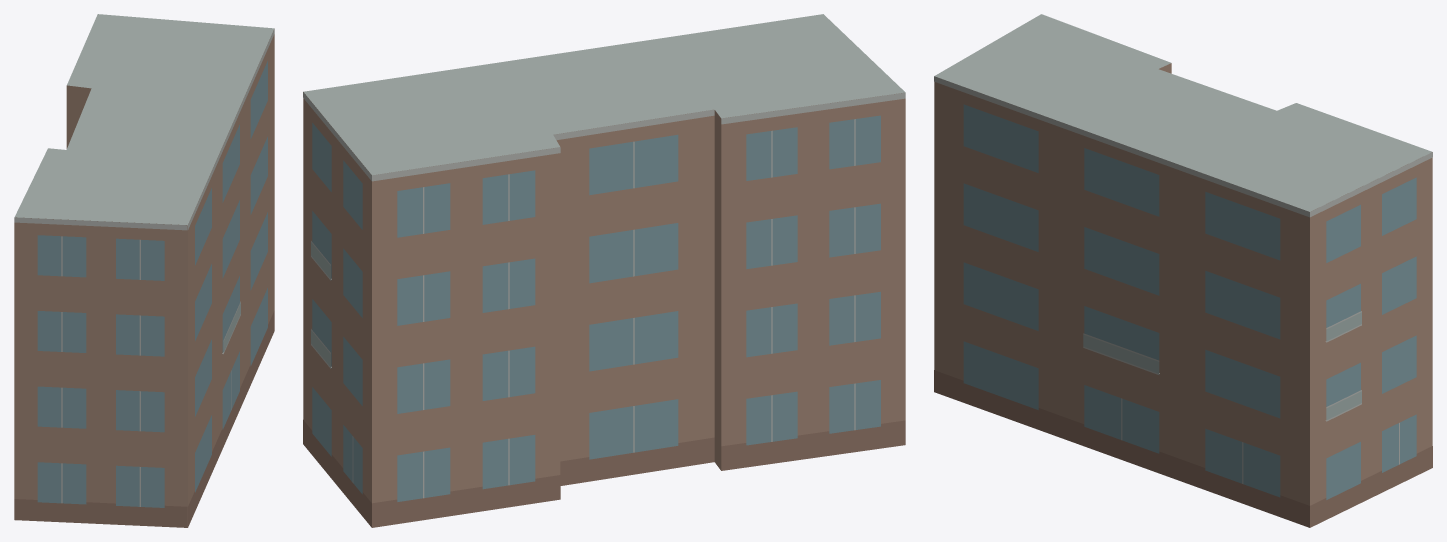
File: survey-upis-32968770.glb
3 views of the same model, side by side, from view 1: azimuth 30°, elevation 25°; view 2: azimuth 150°, elevation 25°; view 3: azimuth 270°, elevation 25° (orthographic). The views are drawn at different scales.
Parts seen in each view (by area): view 1: survey-upis-32968770.tmp; view 2: survey-upis-32968770.tmp; view 3: survey-upis-32968770.tmp.
Boxes of the visible parts, x1,y1,x2,y2 form: survey-upis-32968770.tmp: [14, 14, 274, 527]; survey-upis-32968770.tmp: [303, 14, 905, 527]; survey-upis-32968770.tmp: [934, 14, 1432, 527].
Size of the model in its own units: 18.95 by 14.1 by 20.18.
